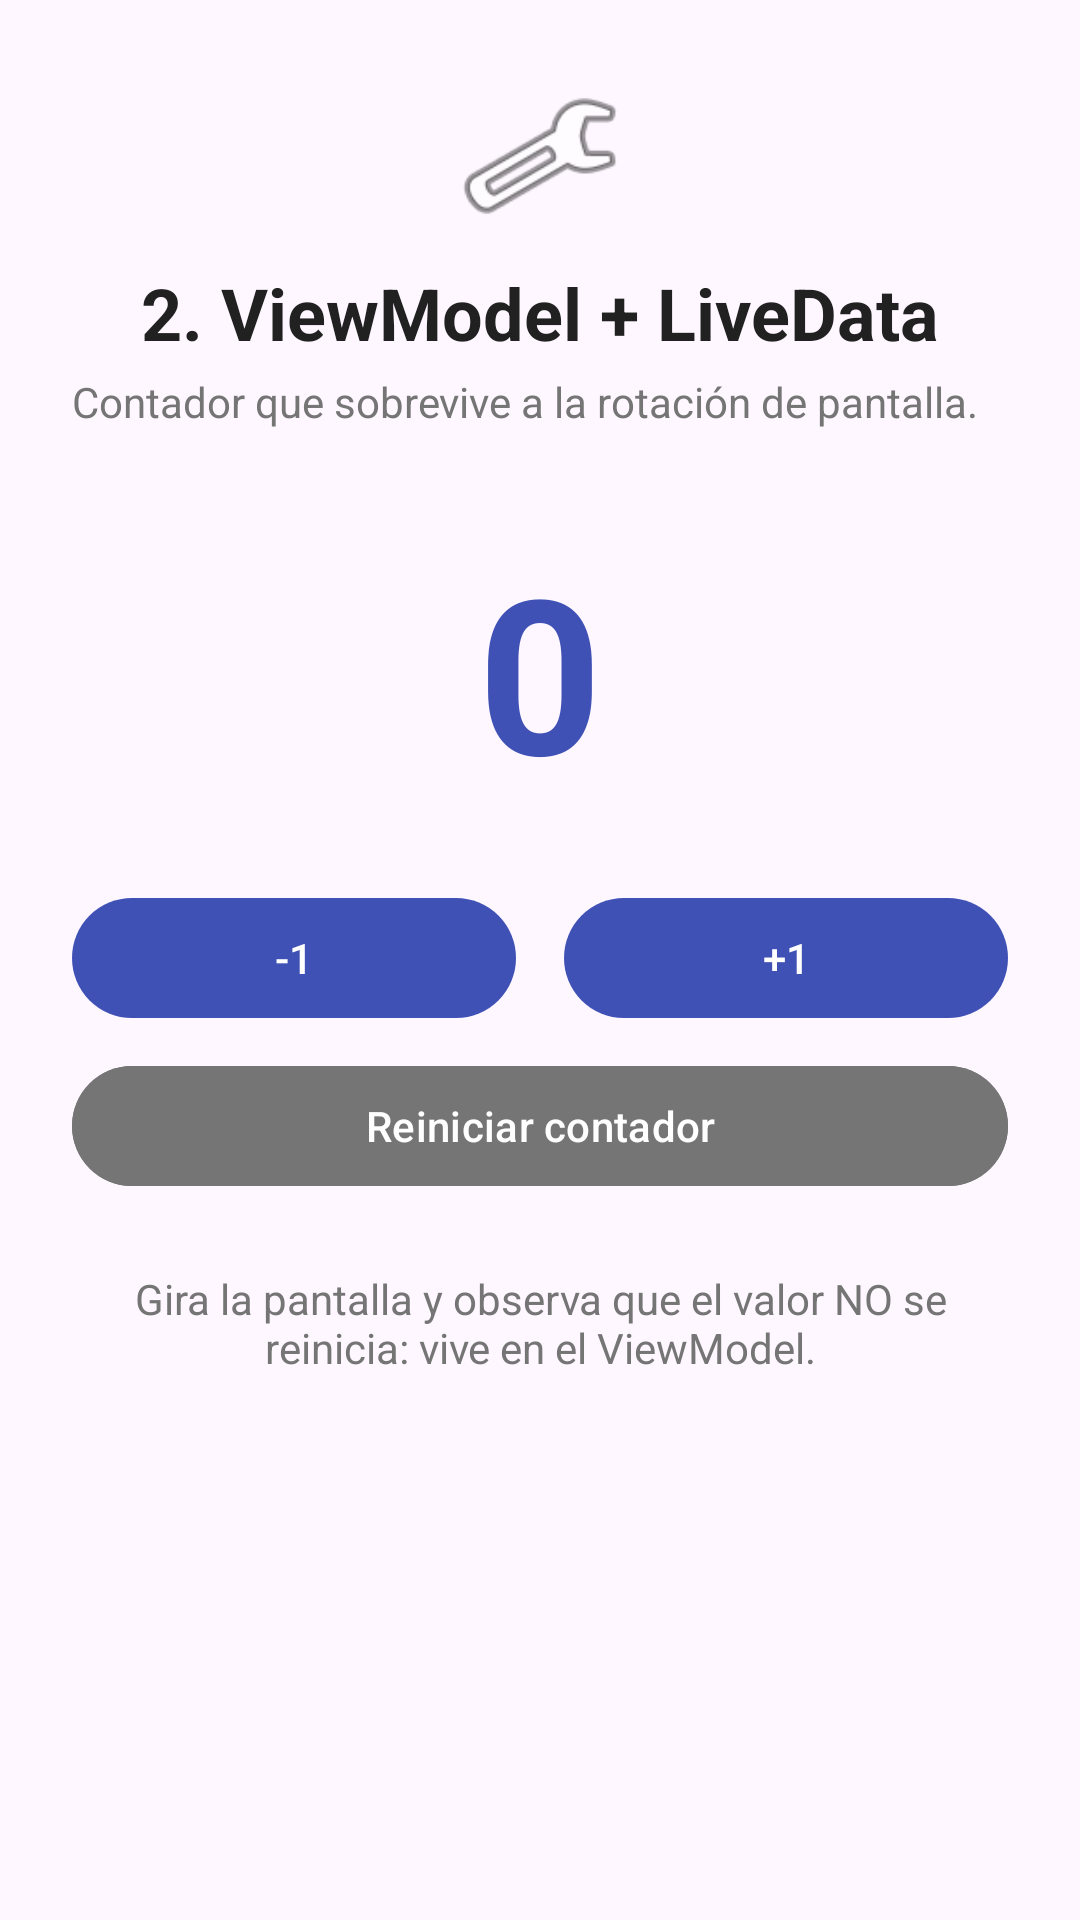

Screen size 1080×1920. Icon name, then its box in pixels as [left=x1, top=y1, right=x2, bottom=y2]:
manage: [left=464, top=98, right=616, bottom=214]
